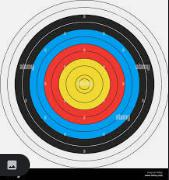bulls eye: (4, 1, 167, 166)
